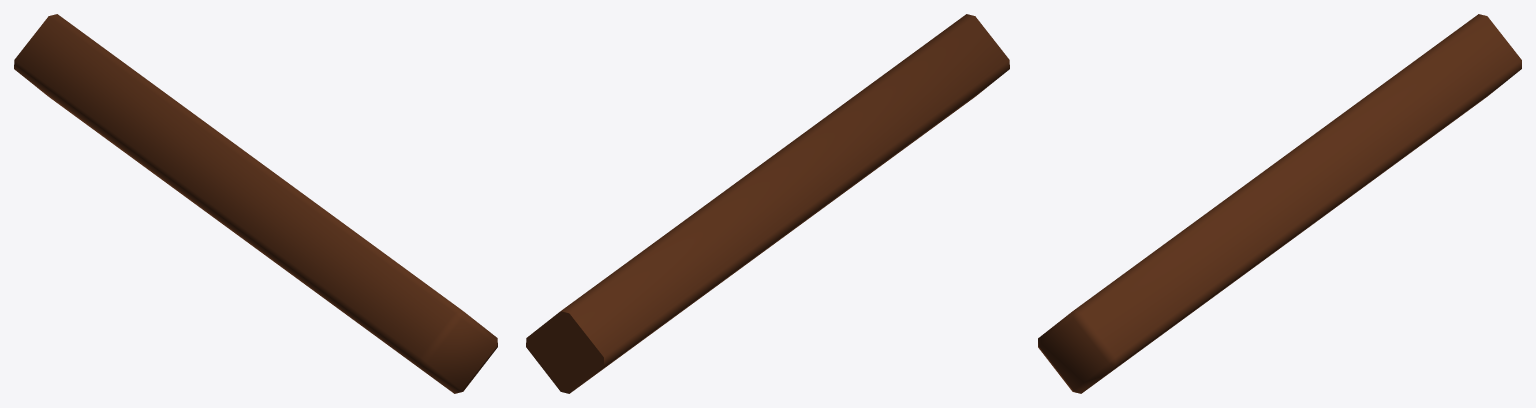
The model's file is SP_House01_RoofSupportBeam05.fbx.
The picture shows the model from 3 angles, left to right: view 1: azimuth 30°, elevation 25°; view 2: azimuth 150°, elevation 25°; view 3: azimuth 330°, elevation 25°; orthographic projection.
Parts seen in each view (by area): view 1: SP_House01_RoofSupportBeam05; view 2: SP_House01_RoofSupportBeam05; view 3: SP_House01_RoofSupportBeam05.
Boxes of the visible parts, left/top/right/bottom form: SP_House01_RoofSupportBeam05: left=14, top=14, right=497, bottom=393; SP_House01_RoofSupportBeam05: left=526, top=14, right=1009, bottom=393; SP_House01_RoofSupportBeam05: left=1038, top=14, right=1521, bottom=393.
Bounding box in the file's own units: 0.2377 × 0.2357 × 2.17.
